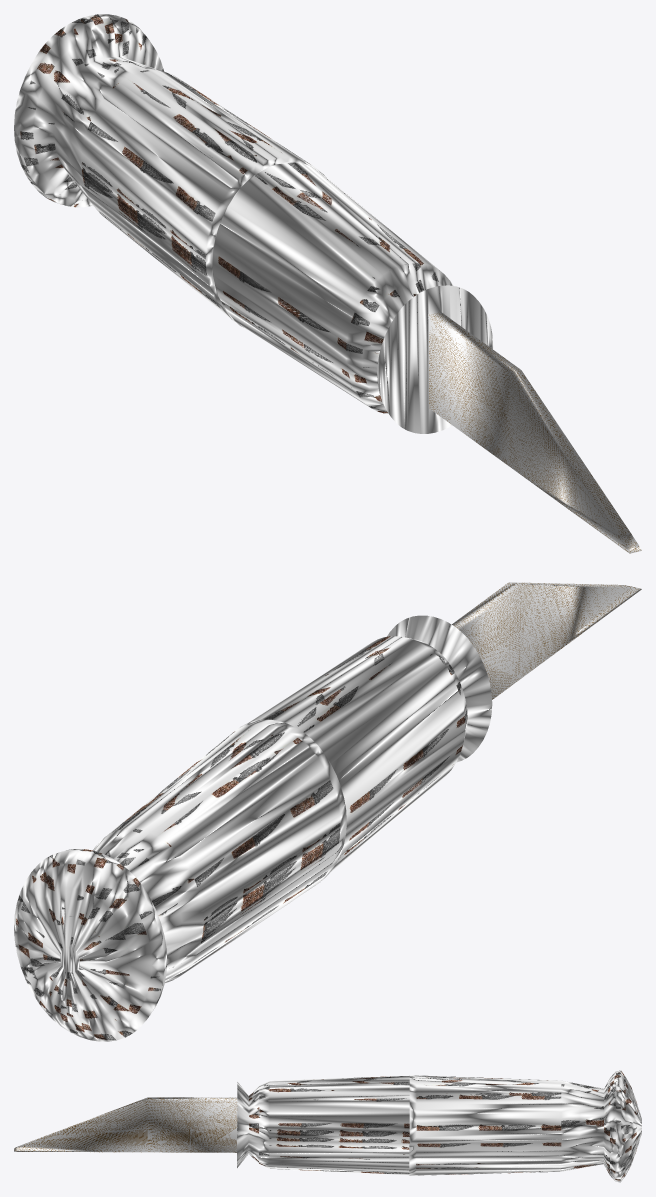
File: model_align.obj
The picture shows the model from 3 angles, top to bottom: view 1: azimuth 30°, elevation 25°; view 2: azimuth 150°, elevation 25°; view 3: azimuth 270°, elevation 25°; orthographic projection. The views are drawn at different scales.
Bounding box in the file's own units: 0.0333 × 0.0399 × 0.2177.
